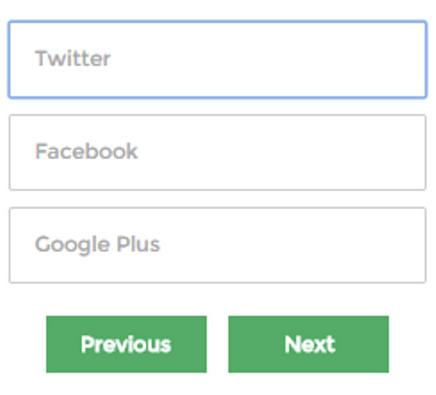button: (45, 314, 208, 373), (228, 315, 391, 373)
field: (5, 18, 430, 101), (8, 206, 429, 285), (7, 114, 429, 191)
